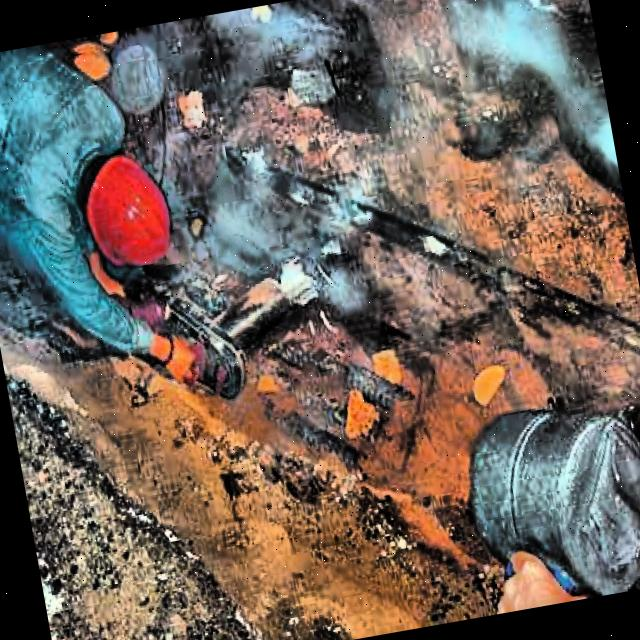helmet: (70, 140, 184, 292)
